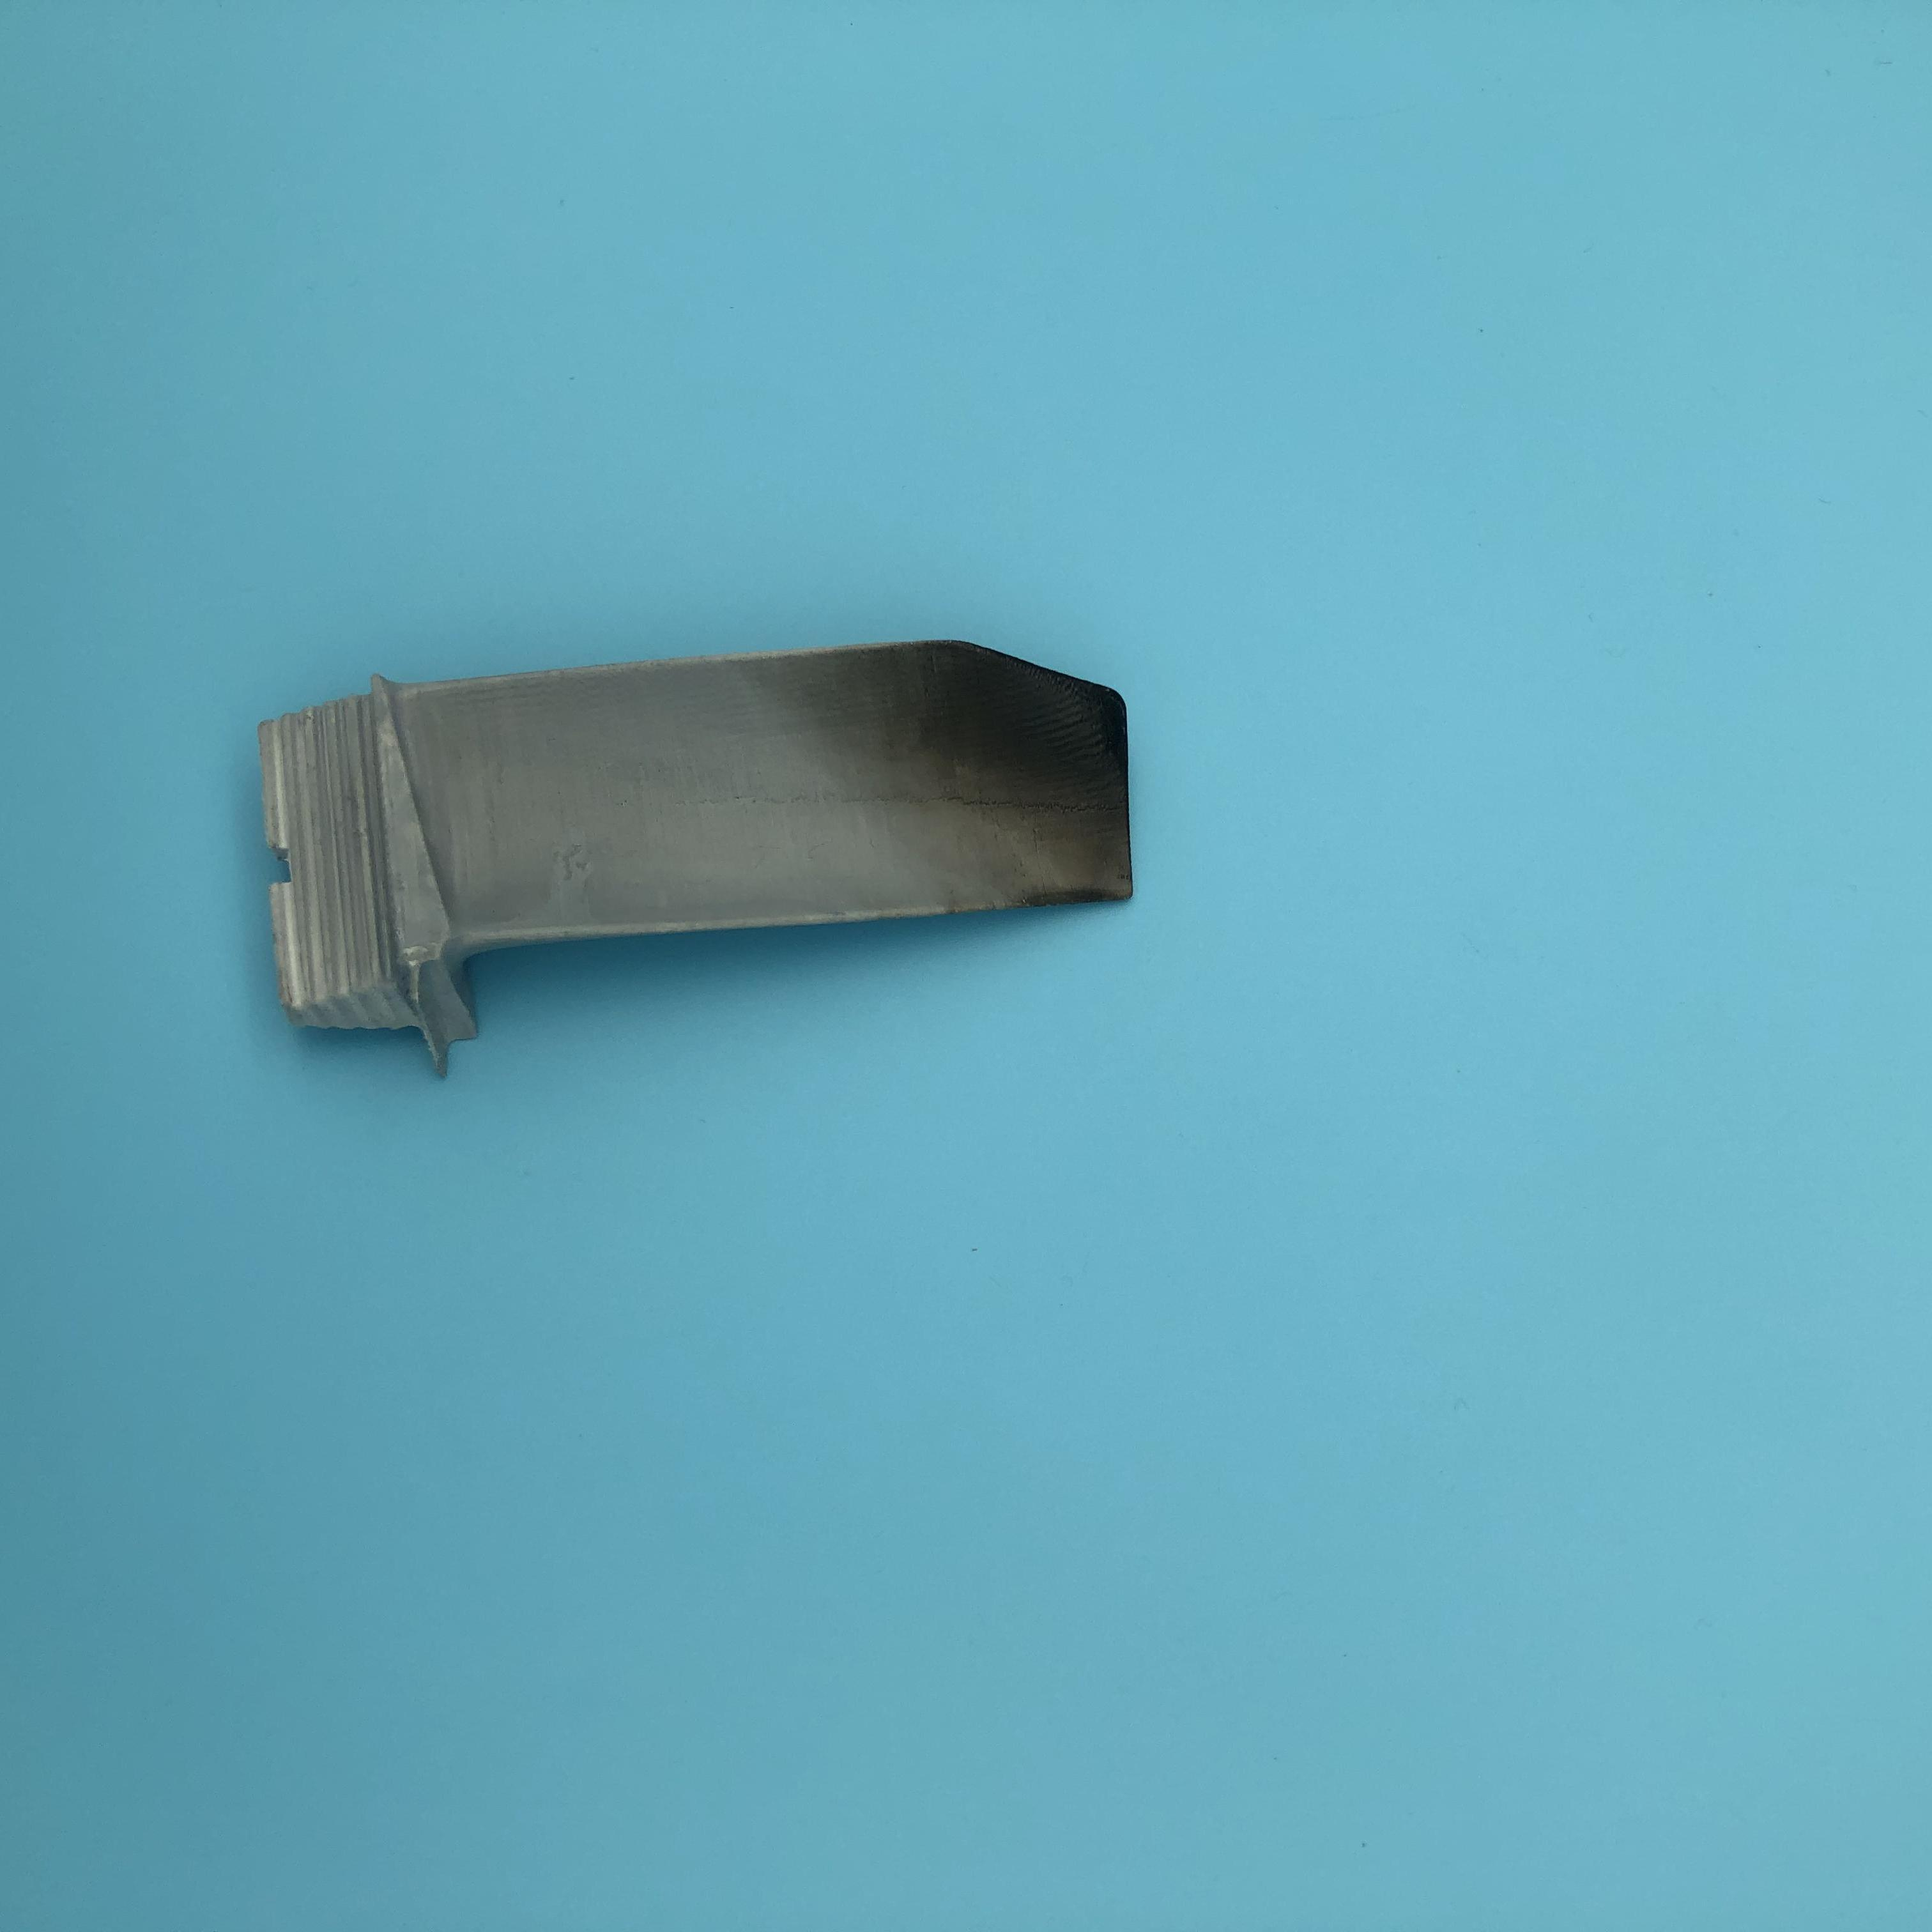ablation: (869, 656, 1132, 897)
